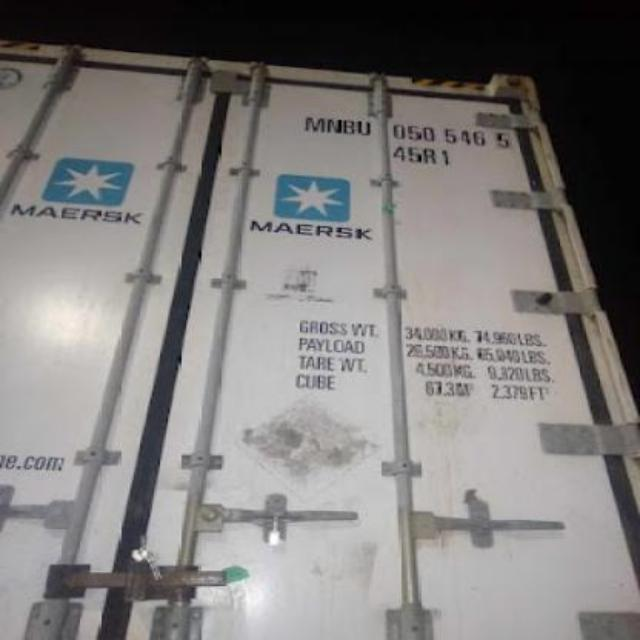0: (394, 123, 406, 141), (424, 128, 436, 142)
4: (458, 129, 472, 145)
5: (442, 125, 460, 145), (496, 130, 508, 148), (408, 124, 420, 140)
6: (472, 129, 486, 147)
B: (342, 120, 356, 134)
M: (306, 116, 326, 132)
N: (326, 120, 339, 132)
U: (358, 120, 372, 136)
